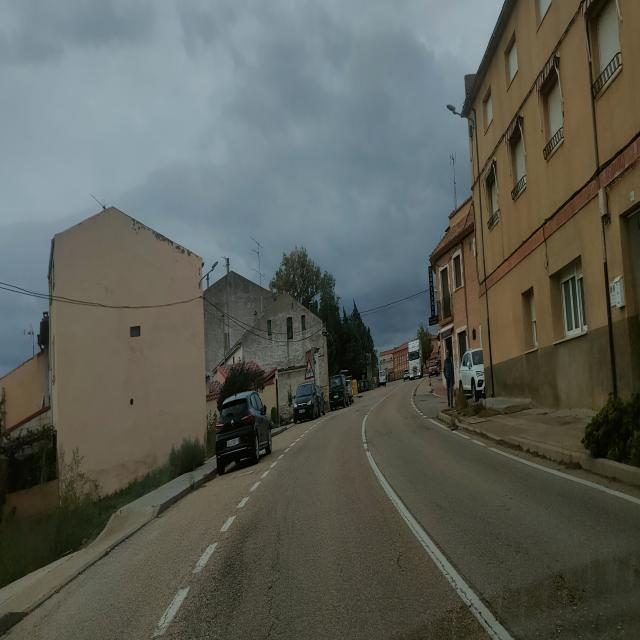Poth-hole: (269, 533, 279, 606), (262, 607, 276, 638), (391, 550, 405, 572), (364, 424, 370, 457)
